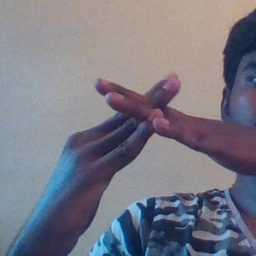W: (82, 58, 209, 181)
